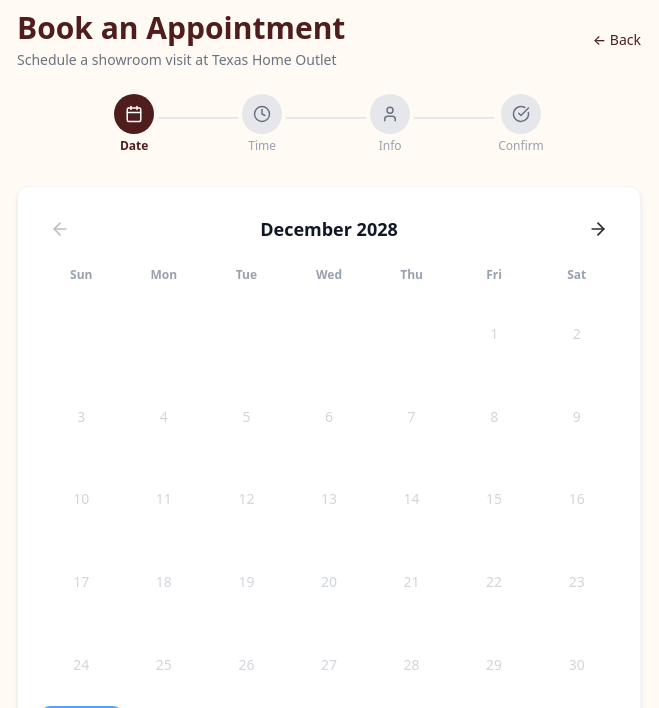
Test: appointment calendar when a month ends on Sunday › December 2028 has no enabled date until Next month
expect the heading "December 2028" is shown: met, box 260,215 -> 398,243
Click the button named "Next month" at (598, 229), box 580,211 -> 616,247
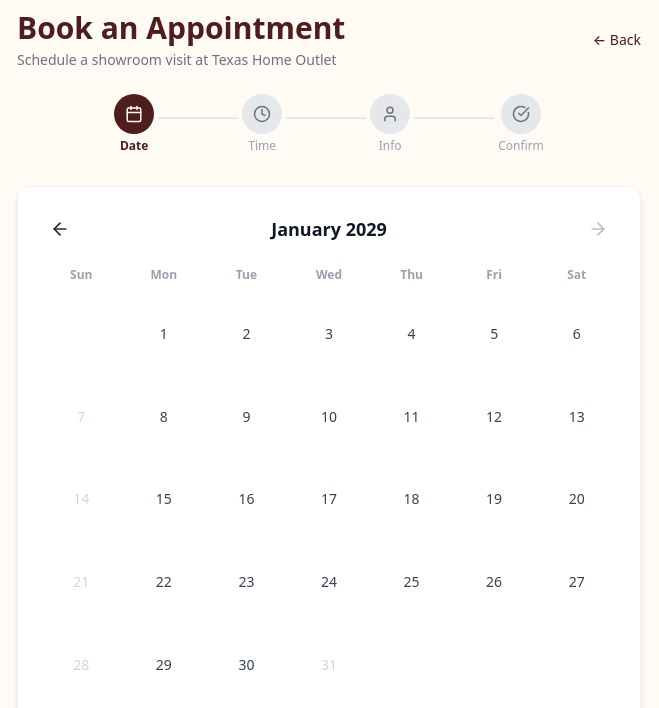
expect the button "1" is enabled: met, box 125,295 -> 203,374
expect the heading "January 2029" is shown: met, box 271,215 -> 387,243
